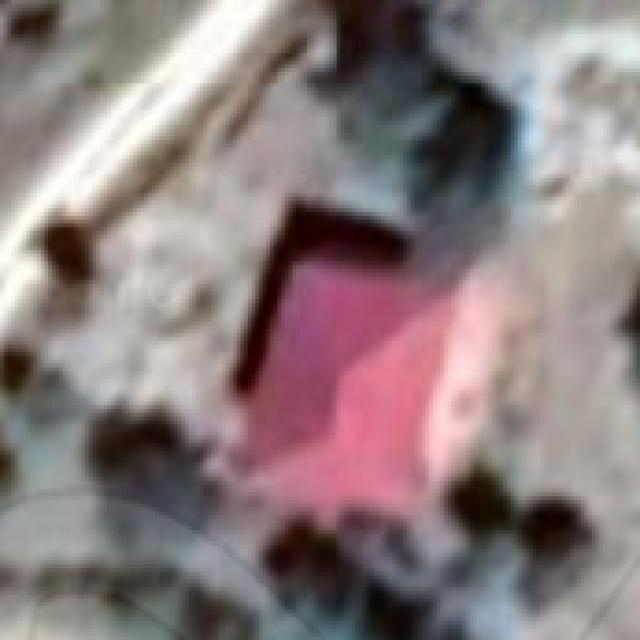Batiment: (236, 214, 452, 519)
